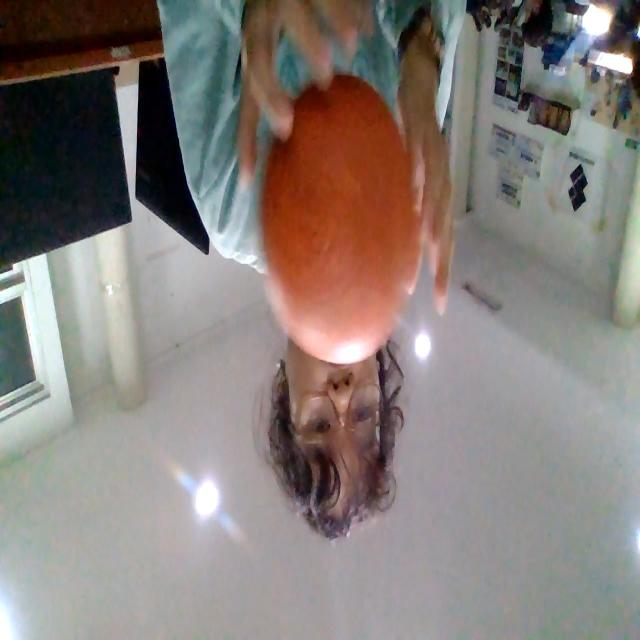ball: (260, 74, 422, 366)
